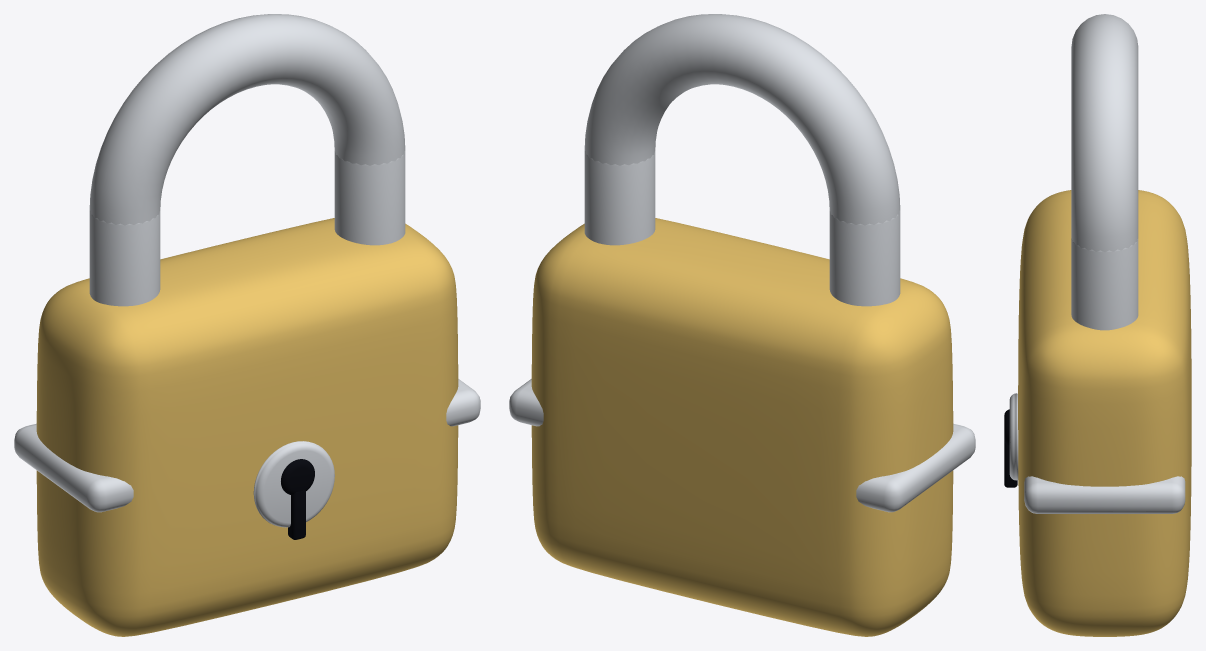
Rendered from padlock.glb.
3 views of the same model, side by side, from view 1: azimuth 30°, elevation 25°; view 2: azimuth 150°, elevation 25°; view 3: azimuth 270°, elevation 25° (orthographic). The views are drawn at different scales.
Parts seen in each view (by area): view 1: body, mover_shackle, mover_leg, mover_leg.001, trim, keyhole_ring, keyhole, keyhole_slot; view 2: body, mover_shackle, mover_leg, mover_leg.001, trim; view 3: body, mover_shackle, mover_leg.001, trim, keyhole_ring, keyhole_slot.
Boxes of the visible parts, x1,y1,x2,y2 form: body: (36, 218, 458, 636); mover_shackle: (89, 14, 405, 225); mover_leg: (89, 211, 160, 306); mover_leg.001: (334, 151, 405, 245); trim: (14, 379, 480, 512); keyhole_ring: (253, 441, 334, 527); keyhole: (281, 459, 314, 495); keyhole_slot: (288, 490, 305, 539); body: (531, 218, 953, 636); mover_shackle: (584, 14, 900, 225); mover_leg: (829, 211, 900, 306); mover_leg.001: (584, 151, 655, 245); trim: (509, 379, 975, 512); body: (1018, 190, 1191, 636); mover_shackle: (1071, 14, 1138, 252); mover_leg.001: (1071, 238, 1138, 330); trim: (1024, 476, 1185, 513); keyhole_ring: (1009, 393, 1018, 480); keyhole_slot: (1004, 441, 1017, 487).
Bounding box in the file's own units: 0.64 × 0.8894 × 0.2794.
